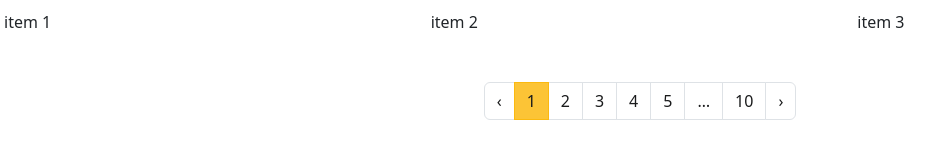
Test case: testing pagination blocks rendering › renders 3 pagination blocks at the middle and 2 beside them ellipsis when active block is not between the first or last 4 blocks
Click the button "5" at (668, 101), box left=650, top=82, right=686, bottom=120
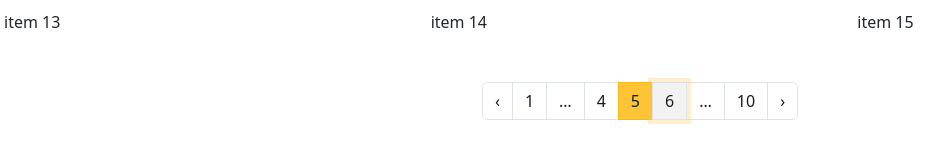
Expected: the button with test id "ListWithPagination\\.Pagination\\.Item" reads "1", left=512, top=82, right=547, bottom=120
Expected: the button with test id "ListWithPagination\\.Pagination\\.Item" reads "4", left=584, top=82, right=619, bottom=120
Expected: the element with test id "ListWithPagination\\.Pagination\\.Item" reads "5", left=631, top=90, right=640, bottom=112
Click the button "6" at (670, 101), box left=652, top=82, right=687, bottom=120
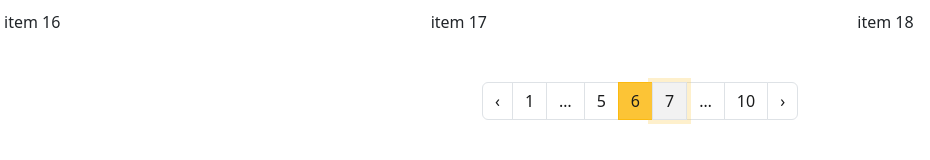
Expected: the button with test id "ListWithPagination\\.Pagination\\.Item" reads "1", left=512, top=82, right=547, bottom=120
Expected: the button with test id "ListWithPagination\\.Pagination\\.Item" reads "5", left=584, top=82, right=619, bottom=120
Expected: the element with test id "ListWithPagination\\.Pagination\\.Item" reads "6", left=631, top=90, right=640, bottom=112
